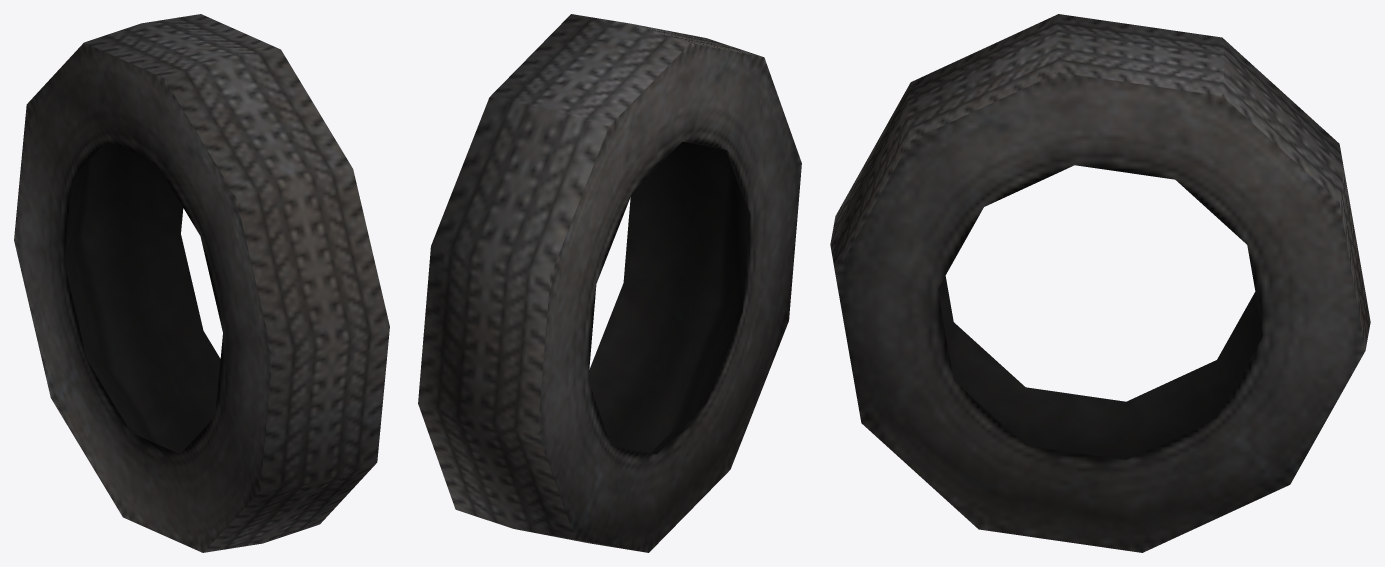
File: Tire_LOD1.fbx
3 views of the same model, side by side, from view 1: azimuth 30°, elevation 25°; view 2: azimuth 150°, elevation 25°; view 3: azimuth 270°, elevation 25° (orthographic). The views are drawn at different scales.
Visible parts, largest first — view 1: Tire_LP_Tire_LP_pCylinder3; view 2: Tire_LP_Tire_LP_pCylinder3; view 3: Tire_LP_Tire_LP_pCylinder3.
Part boxes in pixels (<box>): Tire_LP_Tire_LP_pCylinder3: <box>14,14,389,552</box>; Tire_LP_Tire_LP_pCylinder3: <box>418,14,801,552</box>; Tire_LP_Tire_LP_pCylinder3: <box>830,14,1370,552</box>.
Size of the model in its own units: 0.3539 by 1.38 by 1.38.
